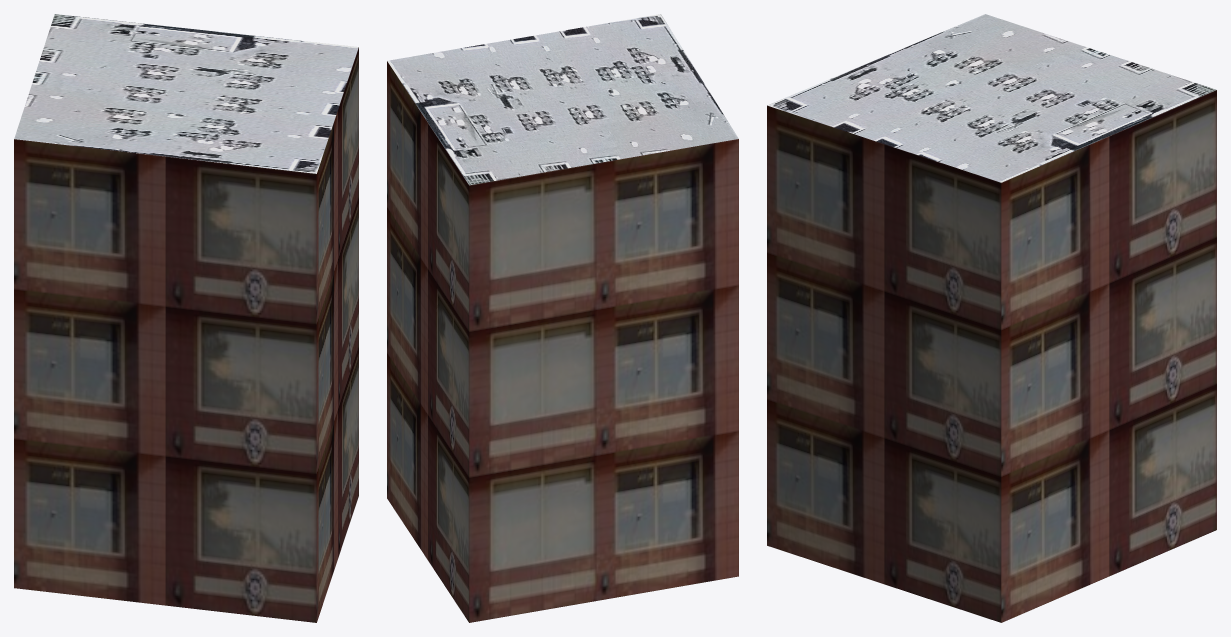
The model's file is ResTex__4267.fbx.
3 views of the same model, side by side, from view 1: azimuth 30°, elevation 25°; view 2: azimuth 150°, elevation 25°; view 3: azimuth 270°, elevation 25° (orthographic). The views are drawn at different scales.
Visible parts, largest first — view 1: CityEngineMaterial_13_m, CityEngineMaterial_2_m; view 2: CityEngineMaterial_13_m, CityEngineMaterial_2_m; view 3: CityEngineMaterial_13_m, CityEngineMaterial_2_m.
Part boxes in pixels (bbox=[...]): CityEngineMaterial_13_m: bbox=[14, 47, 358, 622]; CityEngineMaterial_2_m: bbox=[14, 14, 358, 173]; CityEngineMaterial_13_m: bbox=[387, 61, 738, 622]; CityEngineMaterial_2_m: bbox=[387, 14, 738, 185]; CityEngineMaterial_13_m: bbox=[767, 90, 1216, 622]; CityEngineMaterial_2_m: bbox=[767, 14, 1216, 182].
Size of the model in its own units: 7.4 by 9 by 8.34.
2 materials, 2 textured.
